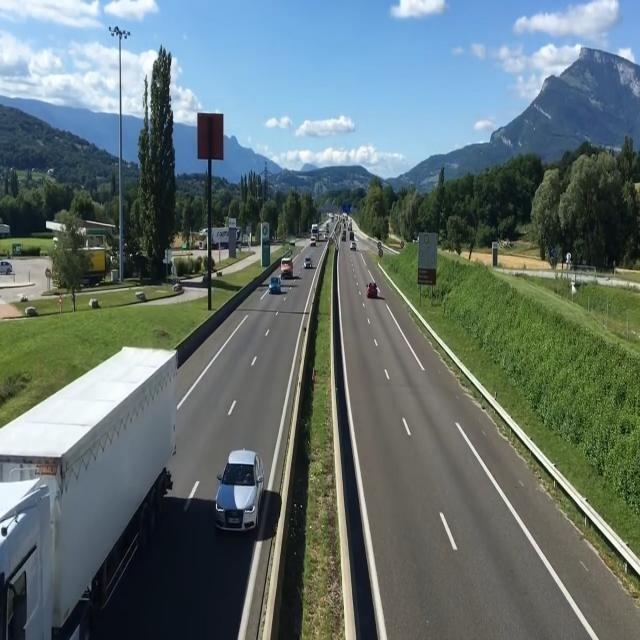Car: (214, 448, 265, 534), (269, 276, 281, 294), (0, 261, 14, 276), (365, 282, 377, 298), (304, 256, 312, 269), (350, 242, 357, 251)
Truck: (0, 344, 181, 640), (198, 227, 243, 250), (310, 224, 320, 240)
